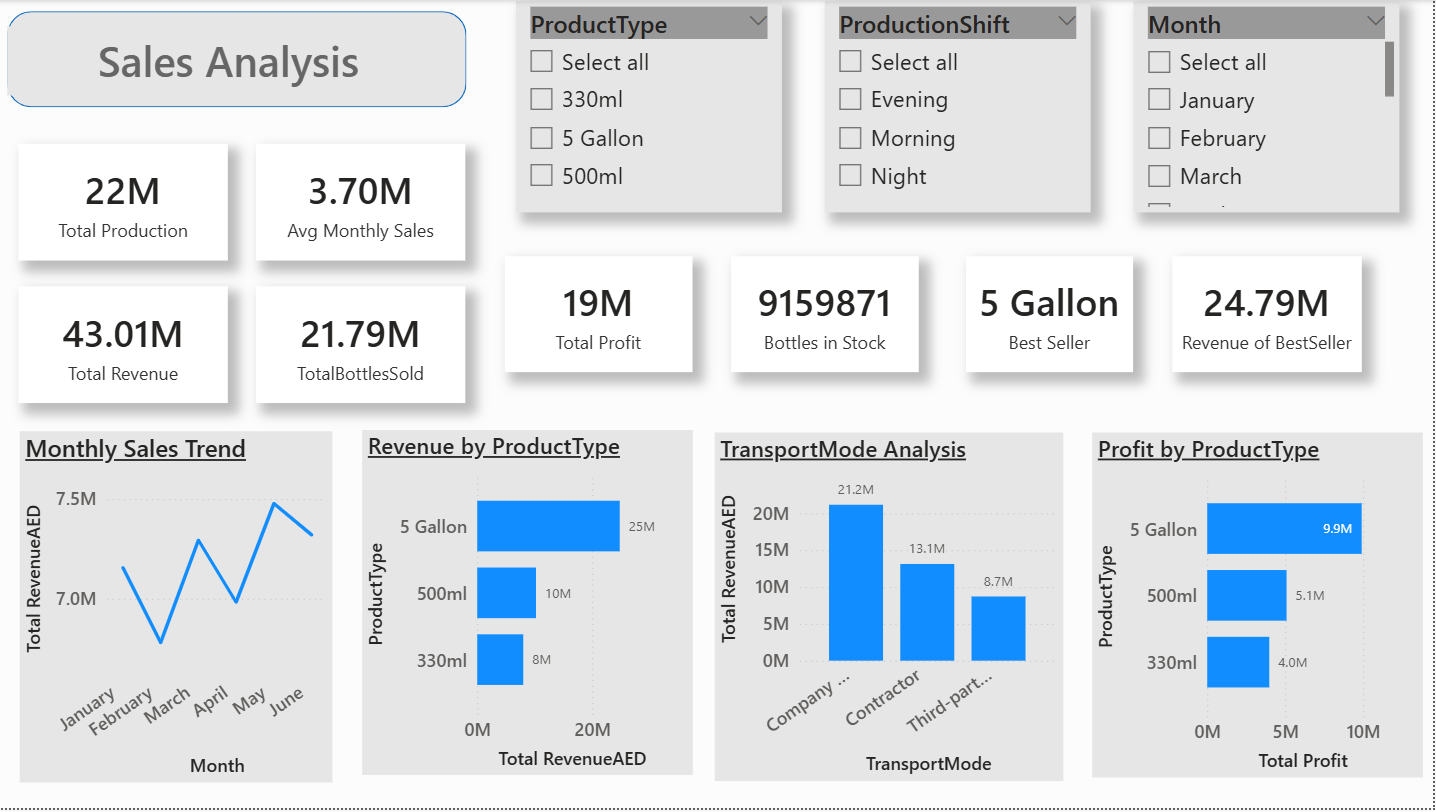

Layout of this report page (visuals, bound fields, positions):
{"tool":"powerbi","page":{"name":"Sales Analysis","canvas":[1280,720],"ordinal":2},"visuals":[{"type":"shape","box":[10,10,409.1,85.5],"z":1000},{"type":"textbox","box":[9.6,23.3,393.8,61.7],"z":2000},{"type":"slicer","fields":{"Values":["Rawda_procudtion_sales.ProductionShift"]},"box":[738.4,1.4,236.6,188.2],"z":3000},{"type":"slicer","fields":{"Values":["Rawda_procudtion_sales.ProductType"]},"box":[463.3,1.4,236.6,188.2],"z":4000},{"type":"card","fields":{"Values":["Sum(Rawda_production_sales.BottlesProduced)"]},"box":[20.6,127.6,186.6,104.3],"z":5000},{"type":"card","fields":{"Values":["Rawda_production_sales.Avg Monthly Sales"]},"box":[231.9,127.6,186.6,104.3],"z":6000},{"type":"card","fields":{"Values":["Rawda_production_sales.Total Revenue"]},"box":[20.6,255.2,186.6,104.3],"z":7000},{"type":"card","fields":{"Values":["Rawda_production_sales.Total Bottles Sold"]},"box":[231.9,255.2,186.6,104.3],"z":8000},{"type":"lineChart","title":"Monthly Sales Trend","fields":{"Category":["Rawda_production_sales.DateFinal.Variation.Date Hierarchy.Month"],"Y":["Sum(Rawda_production_sales.RevenueAED)"]},"box":[21.4,384.3,278.6,312.9],"z":9000},{"type":"clusteredColumnChart","title":"TransportMode Analysis","fields":{"Category":["Rawda_production_sales.TransportMode"],"Y":["Sum(Rawda_production_sales.RevenueAED)"]},"box":[640,385.7,310,310],"z":10000},{"type":"clusteredBarChart","title":"Revenue by ProductType","fields":{"Category":["Rawda_procudtion_sales.ProductType"],"Y":["Sum(Rawda_production_sales.RevenueAED)"]},"box":[325.7,382.9,294.3,307.1],"z":11000},{"type":"slicer","fields":{"Values":["Rawda_procudtion_sales.DateFinal.Variation.Date Hierarchy.Month"]},"box":[1013.5,1.4,236.6,188.2],"z":12000},{"type":"card","fields":{"Values":["Sum(Rawda_production_sales.Profit)"]},"box":[452.9,228.6,167.1,102.9],"z":13000},{"type":"card","fields":{"Values":["Rawda_production_sales.Best Seller"]},"box":[864.3,228.6,148.6,102.9],"z":14000},{"type":"card","fields":{"Values":["Rawda_production_sales.Revenue of BestSeller"]},"box":[1047.1,228.6,168.6,102.9],"z":15000},{"type":"clusteredBarChart","title":"Profit by ProductType","fields":{"Category":["Rawda_procudtion_sales.ProductType"],"Y":["Rawda_production_sales.Total Profit"]},"box":[975.7,385.7,294.3,307.1],"z":16000},{"type":"card","fields":{"Values":["Rawda_production_sales.Bottles In Stock"]},"box":[654.3,228.6,167.1,102.9],"z":17000}]}

Visuals, with their boxes in screenshot pixels (x1, y1, x2, y2), scaled from the page's 1280x720 canvas onto the 1436x812 screenshot:
shape: (11, 11, 470, 108)
textbox: (11, 26, 453, 96)
slicer - Rawda_procudtion_sales.ProductionShift: (828, 2, 1094, 214)
slicer - Rawda_procudtion_sales.ProductType: (520, 2, 785, 214)
card - Sum(Rawda_production_sales.BottlesProduced): (23, 144, 232, 262)
card - Rawda_production_sales.Avg Monthly Sales: (260, 144, 470, 262)
card - Rawda_production_sales.Total Revenue: (23, 288, 232, 405)
card - Rawda_production_sales.Total Bottles Sold: (260, 288, 470, 405)
"Monthly Sales Trend" lineChart: (24, 433, 337, 786)
"TransportMode Analysis" clusteredColumnChart: (718, 435, 1066, 785)
"Revenue by ProductType" clusteredBarChart: (365, 432, 696, 778)
slicer - Rawda_procudtion_sales.DateFinal.Variation.Date Hierarchy.Month: (1137, 2, 1402, 214)
card - Sum(Rawda_production_sales.Profit): (508, 258, 696, 374)
card - Rawda_production_sales.Best Seller: (970, 258, 1136, 374)
card - Rawda_production_sales.Revenue of BestSeller: (1175, 258, 1364, 374)
"Profit by ProductType" clusteredBarChart: (1095, 435, 1425, 781)
card - Rawda_production_sales.Bottles In Stock: (734, 258, 922, 374)
